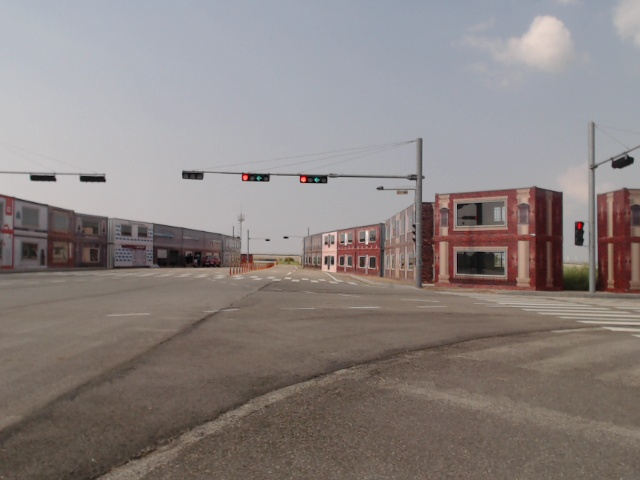left_green_4: (242, 174, 269, 182), (300, 175, 327, 183)
